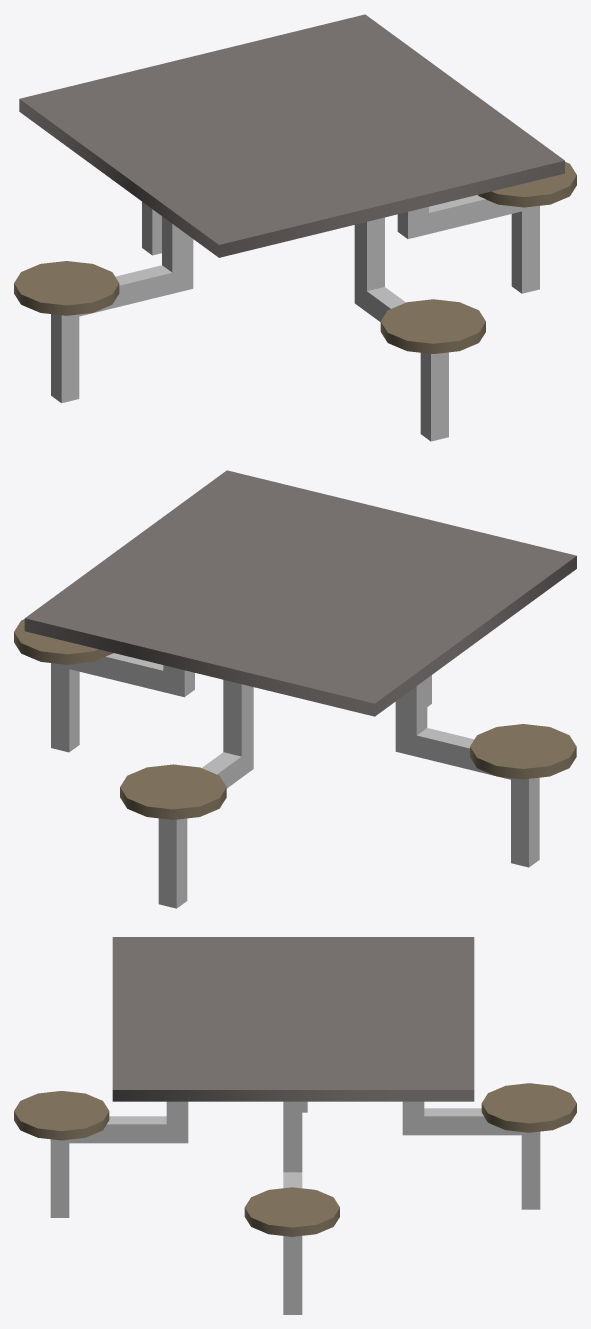
The model's file is SM_Table_01.FBX.
The picture shows the model from 3 angles, top to bottom: view 1: azimuth 30°, elevation 25°; view 2: azimuth 150°, elevation 25°; view 3: azimuth 270°, elevation 25°; orthographic projection. The views are drawn at different scales.
Parts seen in each view (by area): view 1: SM_Table_01; view 2: SM_Table_01; view 3: SM_Table_01.
Boxes of the visible parts, x1,y1,x2,y2 form: SM_Table_01: (14, 14, 576, 441); SM_Table_01: (14, 470, 576, 908); SM_Table_01: (14, 937, 576, 1314).
Size of the model in its own units: 250 by 247 by 93.93.
